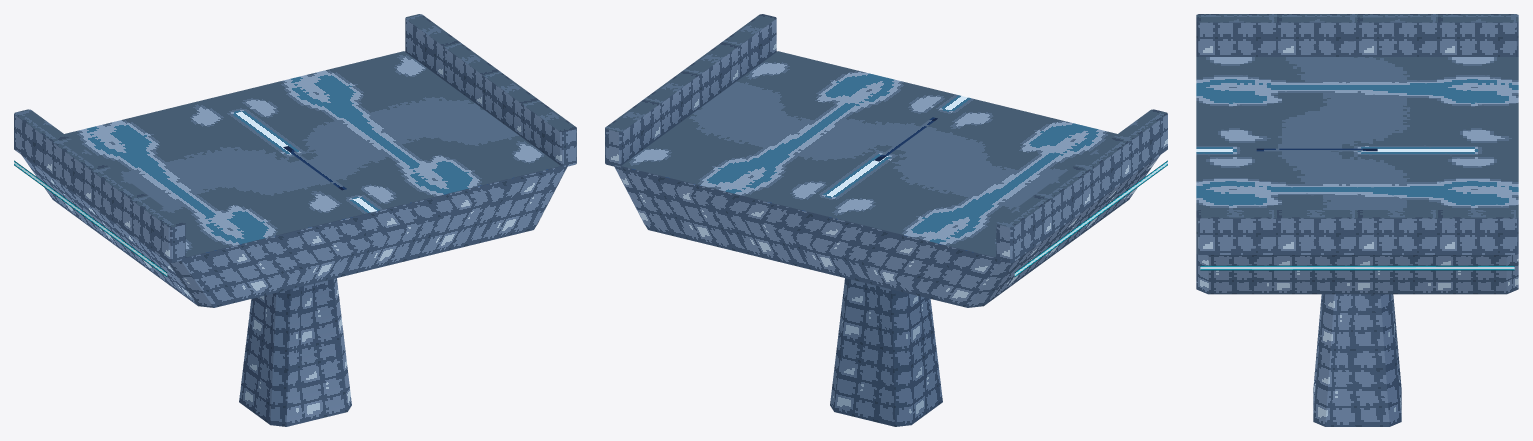
Rendered from cystreet.elevated.glb.
3 renders of one model, left to right at view 1: azimuth 30°, elevation 25°; view 2: azimuth 150°, elevation 25°; view 3: azimuth 270°, elevation 25°, orthographic. The views are drawn at different scales.
Parts seen in each view (by area): view 1: kit_deck, kit_shell_surface, kit_card_neon; view 2: kit_deck, kit_shell_surface, kit_card_neon; view 3: kit_deck, kit_shell_surface, kit_card_neon.
Boxes of the visible parts, x1,y1,x2,y2 form: kit_deck: (14,14,576,426); kit_shell_surface: (64,51,560,257); kit_card_neon: (14,160,167,276); kit_deck: (605,14,1167,426); kit_shell_surface: (621,51,1117,257); kit_card_neon: (1014,160,1167,276); kit_deck: (1196,14,1518,426); kit_shell_surface: (1196,57,1518,210); kit_card_neon: (1200,265,1514,270).
Size of the model in its own units: 12.05 by 7.95 by 8.
Materials: 6 (6 with a texture image).
